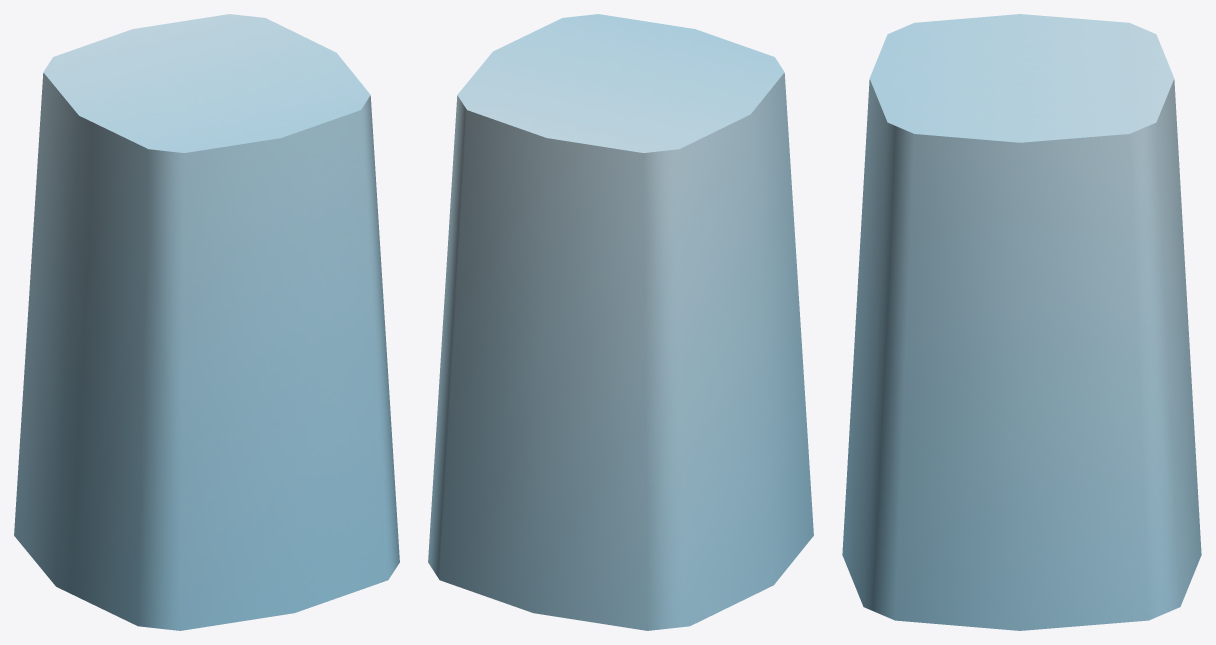
File: glass_content_water.fbx
3 renders of one model, left to right at view 1: azimuth 30°, elevation 25°; view 2: azimuth 150°, elevation 25°; view 3: azimuth 270°, elevation 25°, orthographic. The views are drawn at different scales.
Visible parts, largest first — view 1: glass_content_water; view 2: glass_content_water; view 3: glass_content_water.
Boxes of the visible parts, x1,y1,x2,y2 form: glass_content_water: [14, 14, 399, 630]; glass_content_water: [428, 14, 813, 630]; glass_content_water: [842, 14, 1201, 630].
Bounding box in the file's own units: 13.53 × 19.81 × 13.53.
